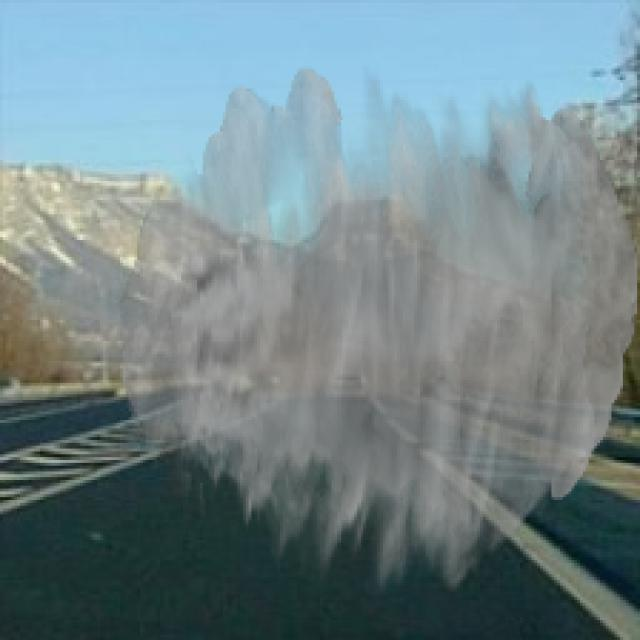Smoke: (120, 65, 637, 598)
